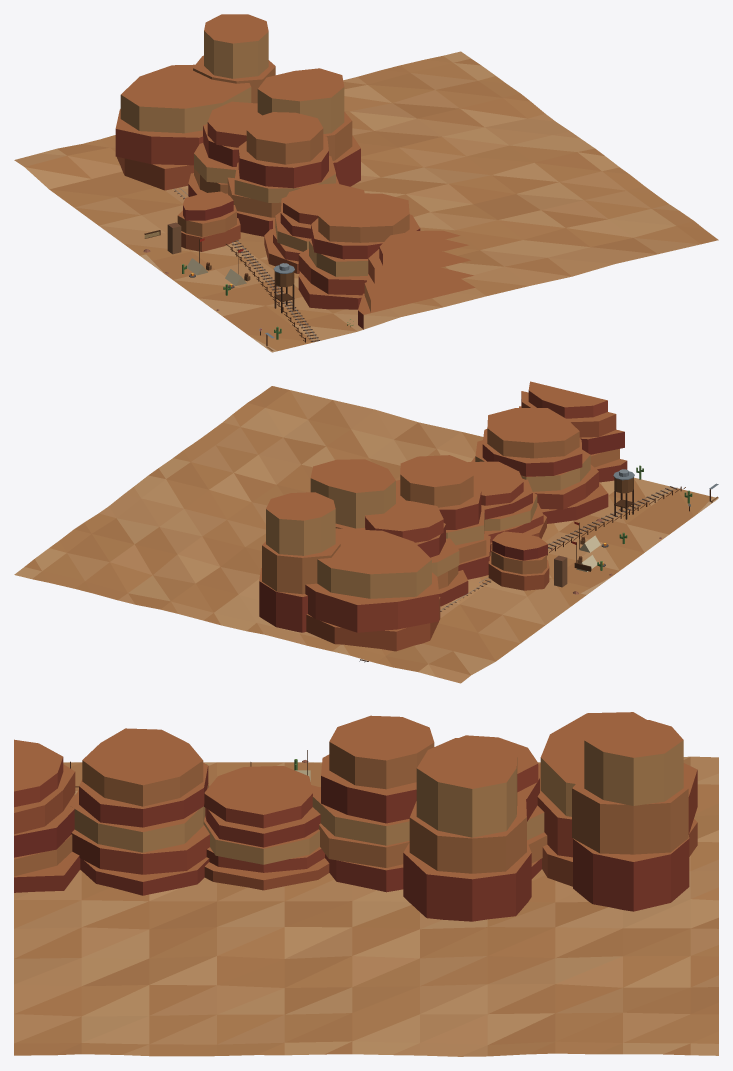
The picture shows the model from 3 angles, top to bottom: view 1: azimuth 30°, elevation 25°; view 2: azimuth 150°, elevation 25°; view 3: azimuth 270°, elevation 25°; orthographic projection. The views are drawn at different scales.
Visible parts, largest first — view 1: baked; view 2: baked; view 3: baked.
Part boxes in pixels (bbox=[...]): baked: bbox=[14, 14, 718, 352]; baked: bbox=[14, 381, 718, 683]; baked: bbox=[14, 712, 718, 1056].
Size of the model in its own units: 125 by 29.76 by 125.
